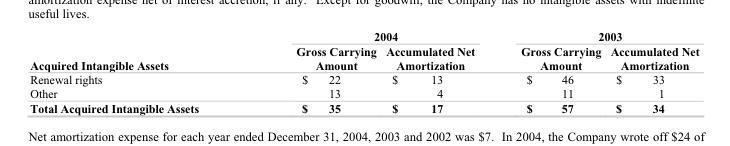table: (29, 29, 698, 114)
table column: (29, 29, 246, 114), (246, 29, 380, 114), (380, 29, 497, 114), (497, 29, 605, 114), (605, 29, 698, 114)
table column header: (29, 29, 698, 72)
table row: (29, 43, 698, 72), (29, 29, 698, 43), (29, 72, 698, 86), (29, 86, 698, 100), (29, 100, 698, 114)
table spanning cell: (29, 29, 246, 72), (246, 29, 497, 43), (497, 29, 698, 43)
